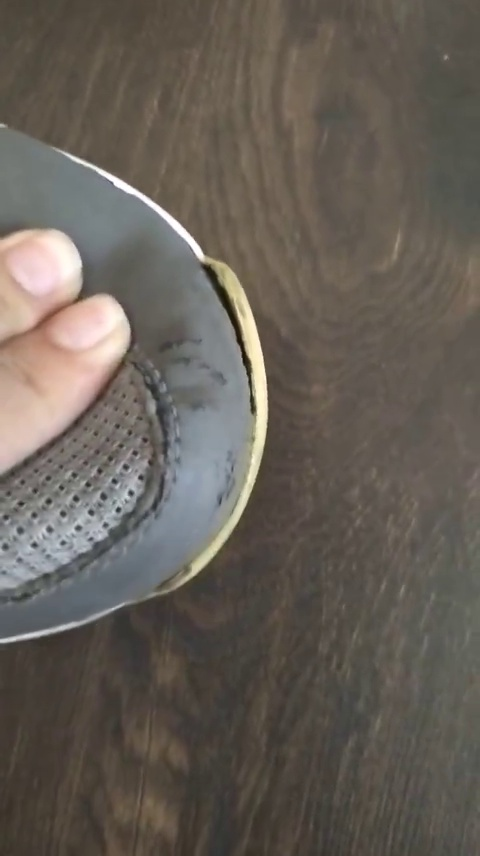bonding: (192, 256, 264, 426)
